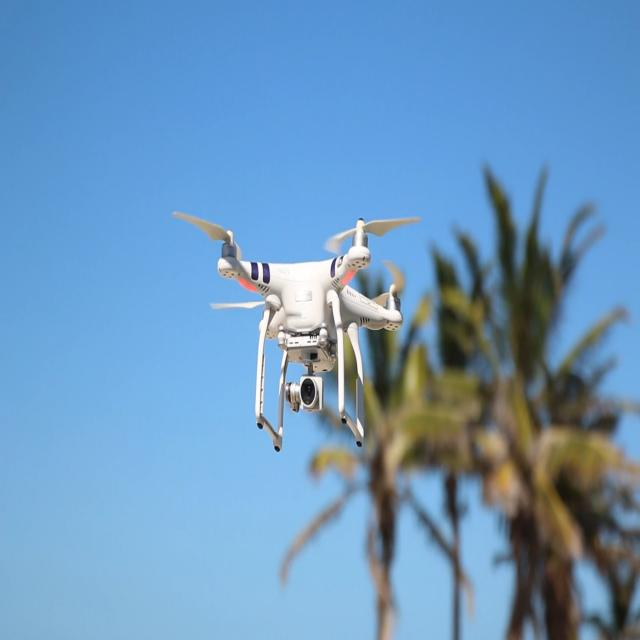Drone: (162, 177, 425, 446)
